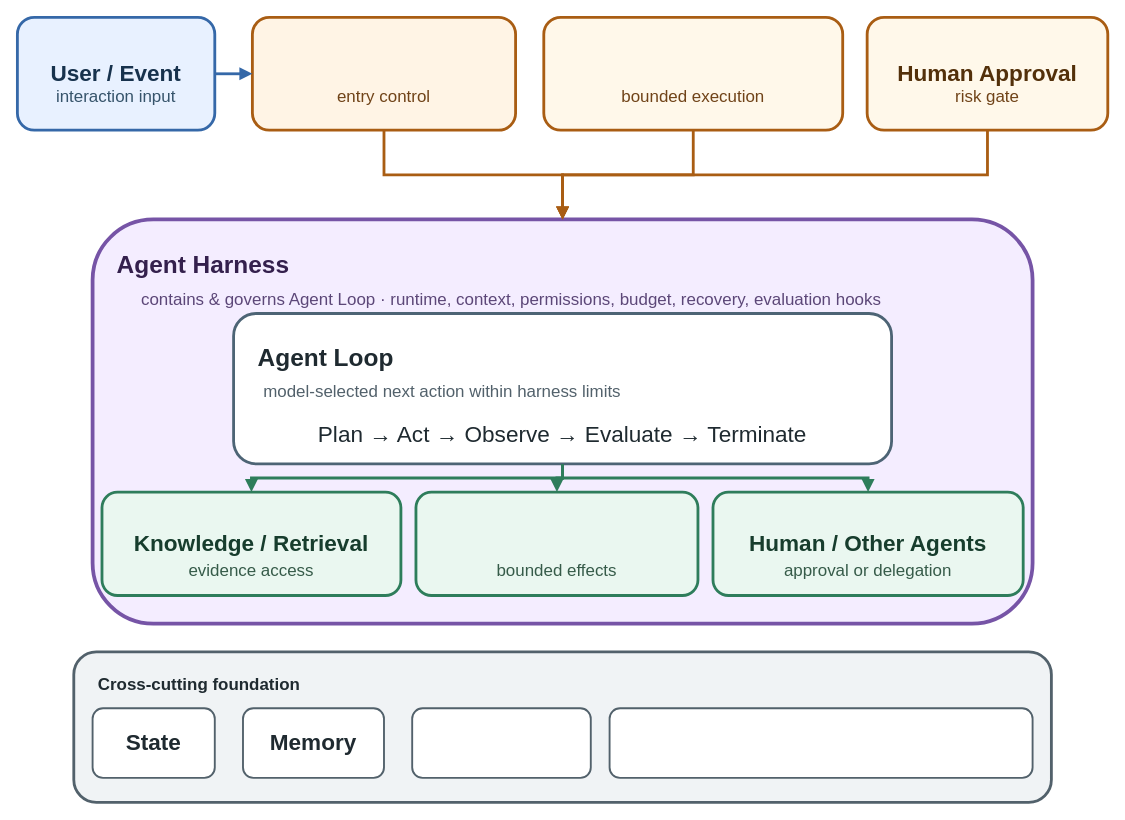
This 1125x820 diagram has some shape labels left out. The box of each missing label's shape, as (x1, y1, x2, y2) in pixels:
Budget & Termination: (542, 16, 844, 131)
Checkpoint: (411, 707, 591, 778)
Policy & Routing: (251, 16, 517, 131)
Tools / Sandbox: (414, 490, 699, 596)
Trace / Evaluation / Guardrail: (608, 707, 1033, 778)
